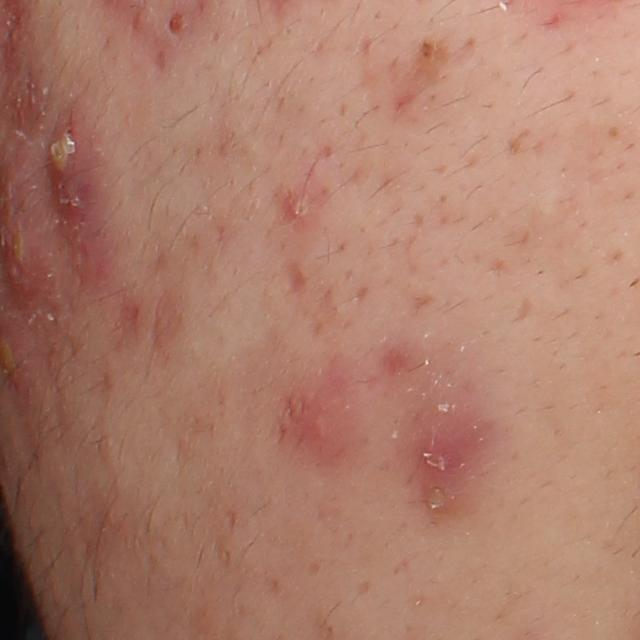atrophic_scar: (277, 257, 309, 299), (506, 292, 531, 325)
nodule: (37, 102, 123, 300), (0, 143, 75, 331)
papule: (403, 400, 487, 500)
